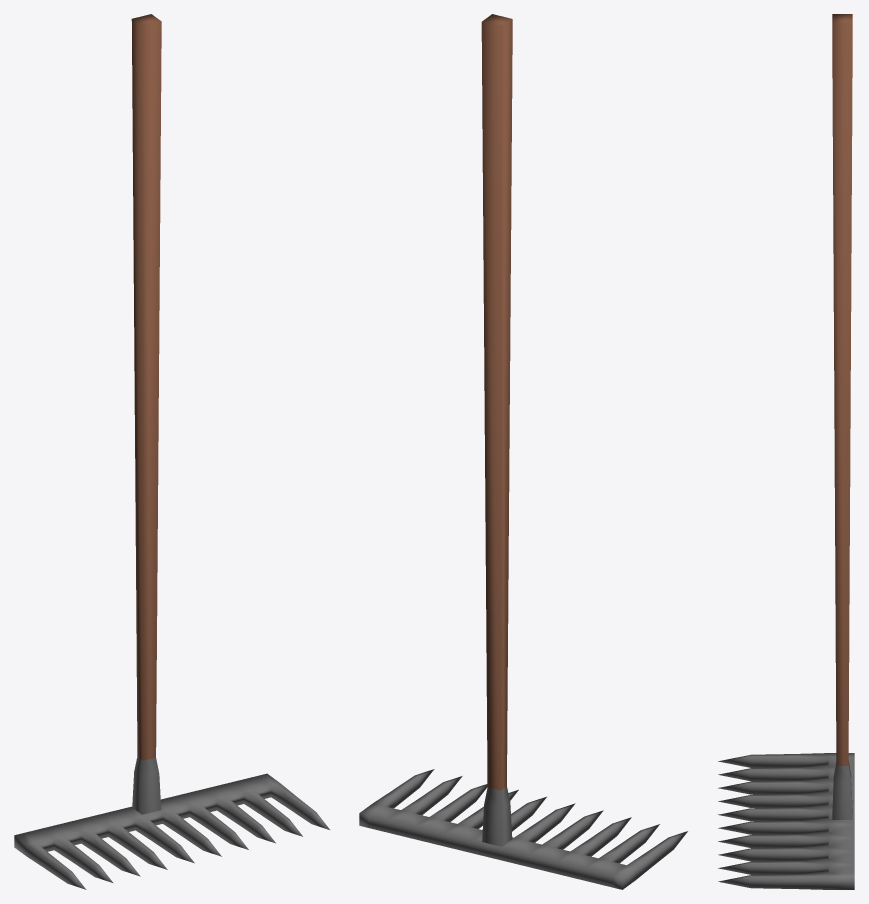
File: Rastelo.fbx
3 views of the same model, side by side, from view 1: azimuth 30°, elevation 25°; view 2: azimuth 150°, elevation 25°; view 3: azimuth 270°, elevation 25° (orthographic). The views are drawn at different scales.
Parts seen in each view (by area): view 1: Rastelo.001; view 2: Rastelo.001; view 3: Rastelo.001.
Part boxes in pixels (x1,y1,x2,y2): Rastelo.001: (14, 14, 329, 889); Rastelo.001: (359, 14, 687, 889); Rastelo.001: (717, 14, 854, 889).
Size of the model in its own units: 0.2018 by 0.434 by 1.31.
